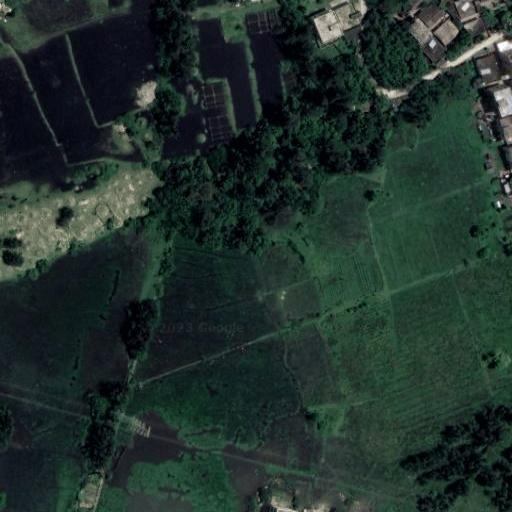building: (313, 11, 343, 42), (420, 35, 450, 66), (475, 53, 503, 85), (333, 3, 362, 33), (405, 17, 434, 46), (417, 0, 445, 29), (434, 19, 460, 45), (493, 87, 512, 116), (498, 112, 512, 145), (463, 18, 486, 37), (447, 2, 462, 20), (274, 508, 298, 512)
